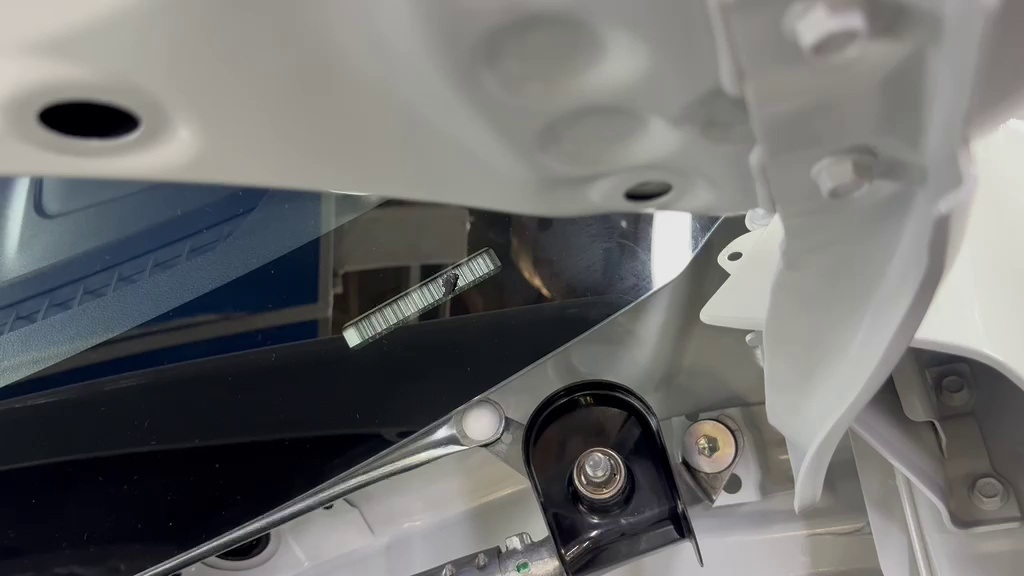barcode: (491, 368, 730, 576)
hinge: (319, 230, 522, 368)
